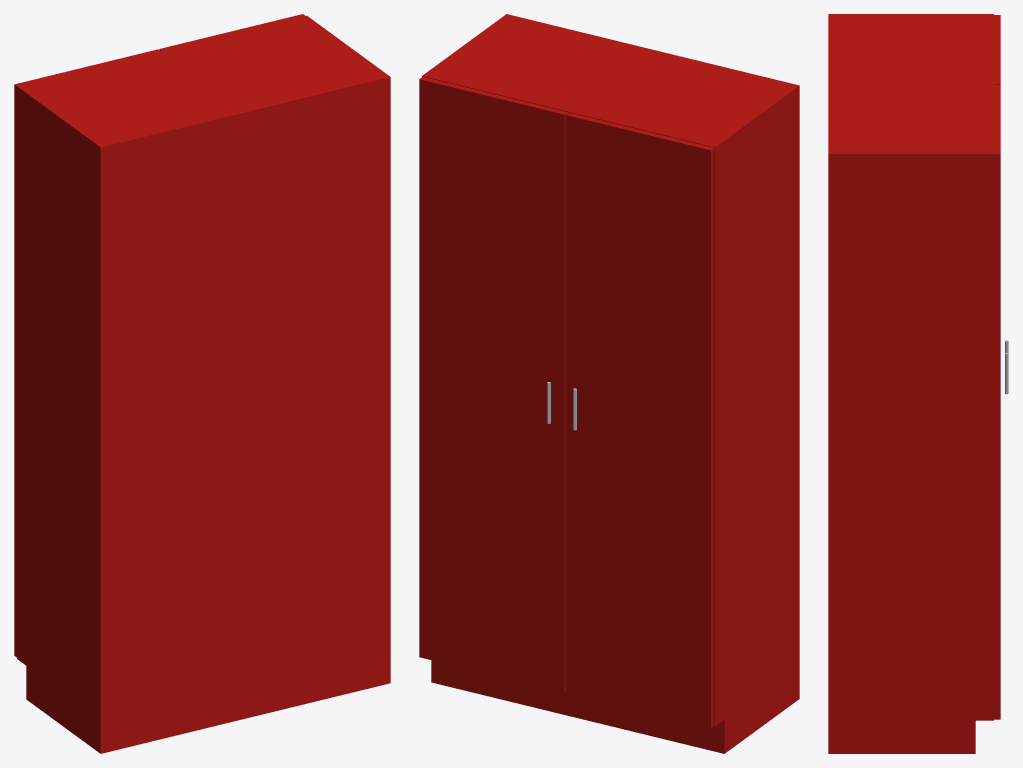
File: furniture.storage.garage_cabinet.glb
3 views of the same model, side by side, from view 1: azimuth 30°, elevation 25°; view 2: azimuth 150°, elevation 25°; view 3: azimuth 270°, elevation 25° (orthographic). The views are drawn at different scales.
Visible parts, largest first — view 1: main__plastic_red; view 2: main__plastic_red; view 3: main__plastic_red.
Boxes of the visible parts, x1,y1,x2,y2 form: main__plastic_red: (14, 14, 390, 753); main__plastic_red: (419, 14, 799, 753); main__plastic_red: (828, 14, 1000, 753).
Size of the model in its own units: 0.9 by 1.8 by 0.49.
